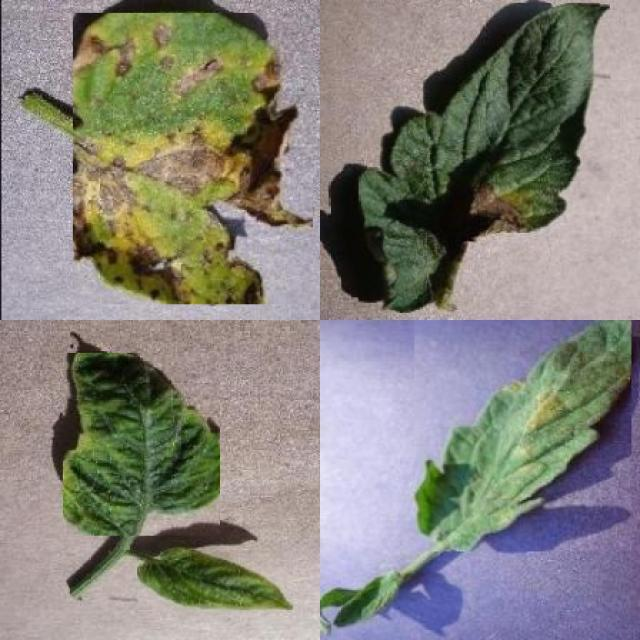Late Blight: (359, 3, 611, 314)
Leaf Mold: (414, 320, 632, 551)
Septoria: (74, 14, 314, 305)
Yellow Leaf Curl Virus: (63, 354, 220, 536), (137, 548, 293, 612)
